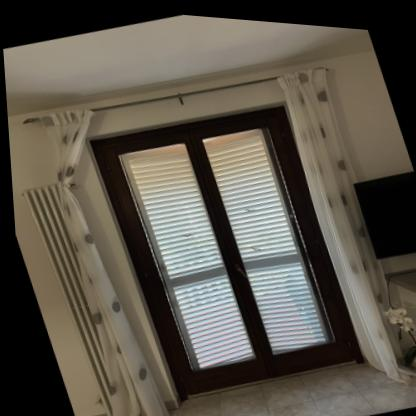Window: (81, 79, 364, 404)
